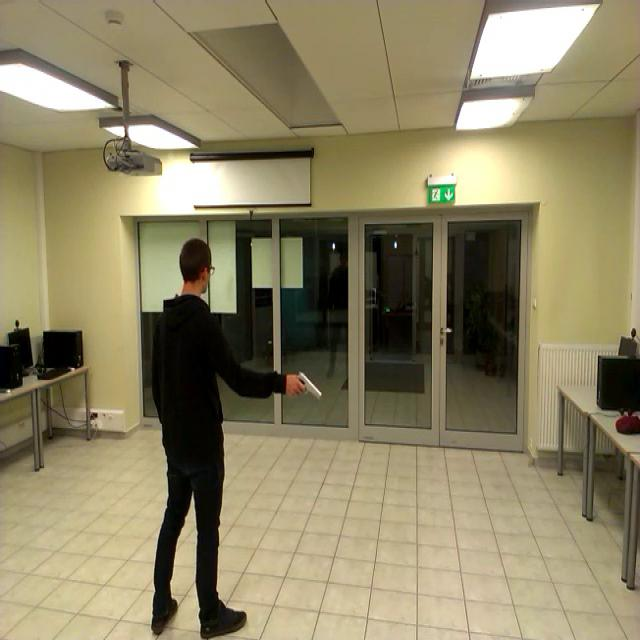handgun: (284, 366, 324, 410)
